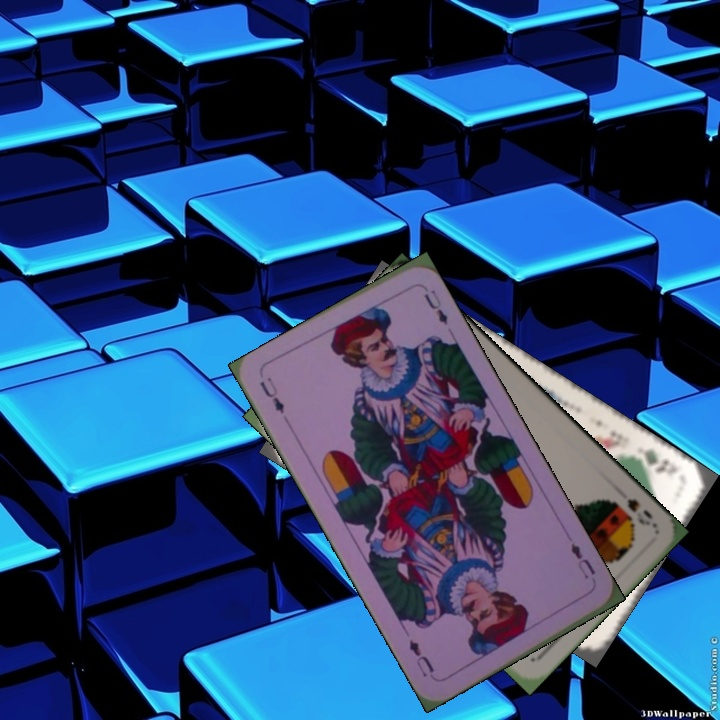EU: (255, 372, 287, 417), (566, 539, 598, 582)
GK: (629, 442, 680, 478)
SO: (622, 495, 659, 529)
